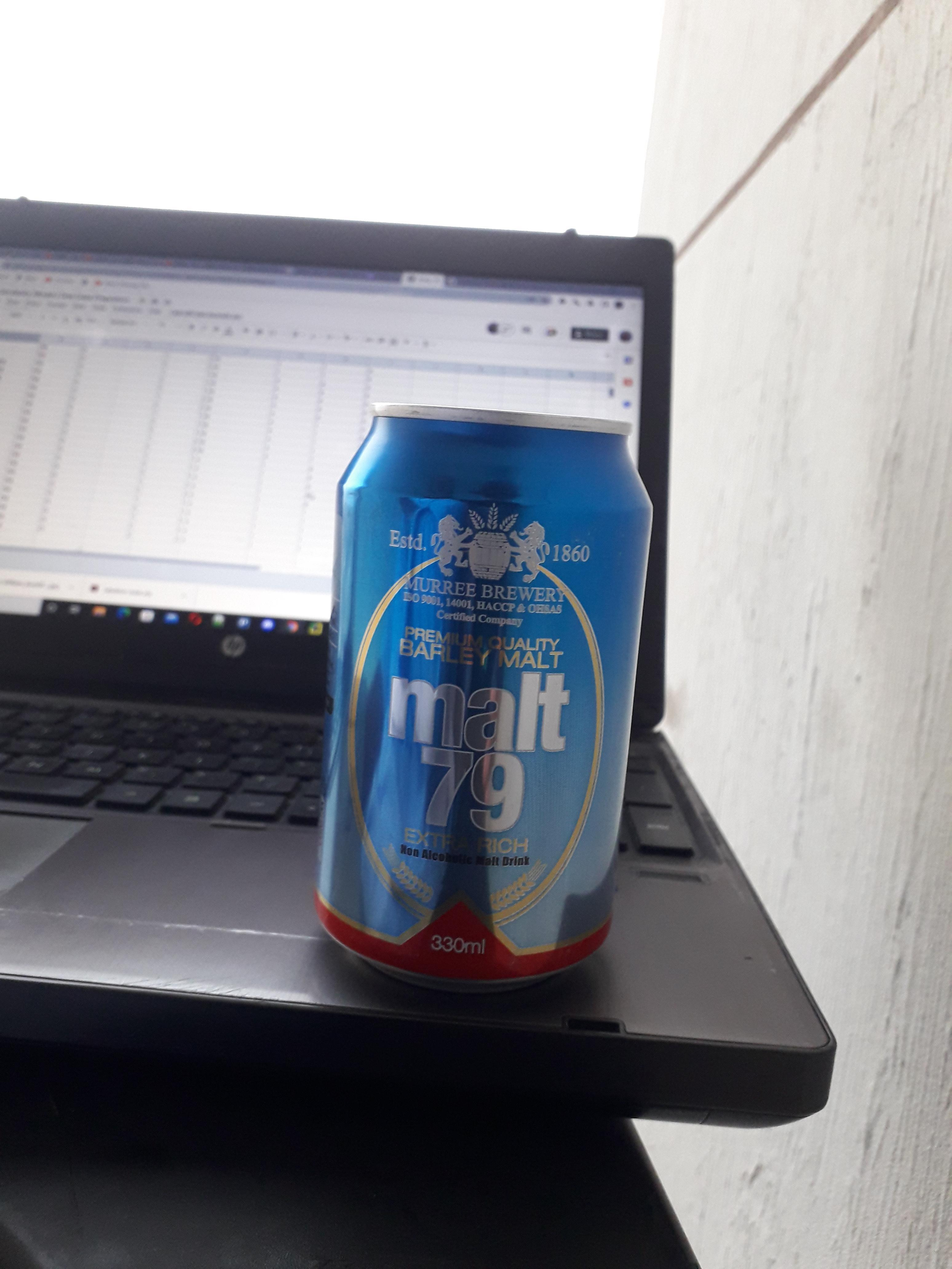tin can: (312, 394, 656, 1002)
